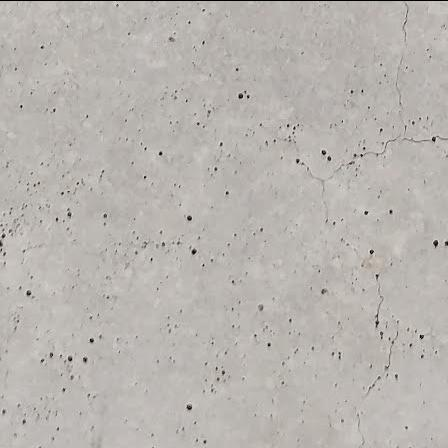crack: (246, 0, 448, 230), (341, 313, 406, 448), (373, 270, 387, 329)
